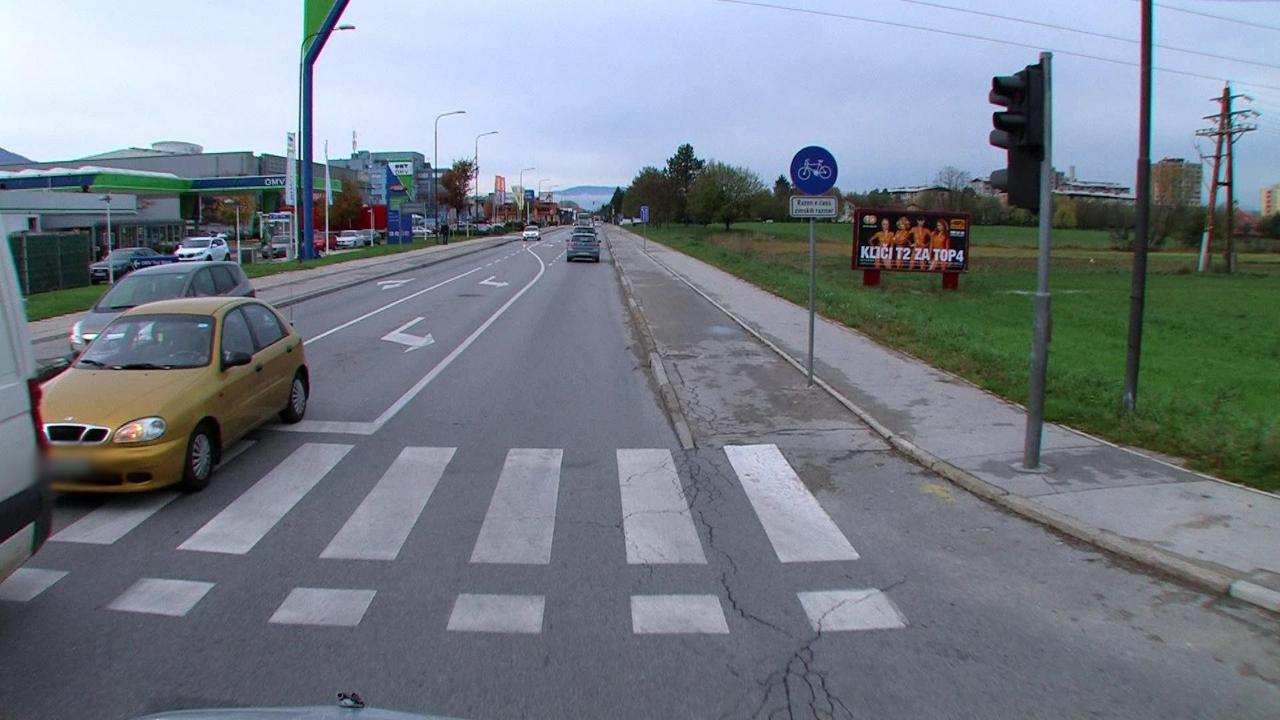Rectangle: (792, 200, 838, 218)
Round: (791, 145, 838, 197)
